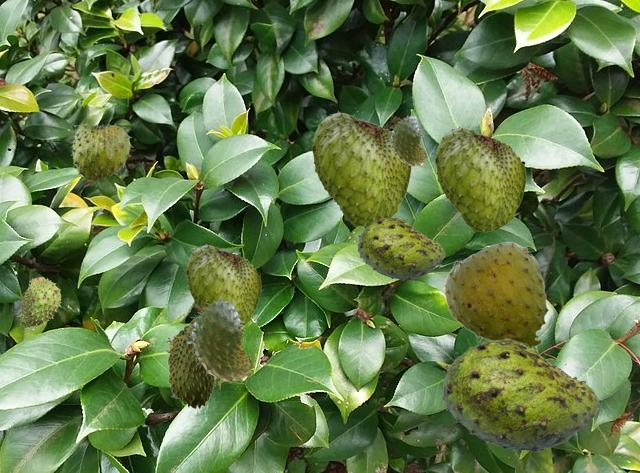guyabano: (441, 338, 599, 451), (312, 110, 410, 226), (442, 241, 548, 348), (435, 125, 525, 231), (187, 296, 253, 388), (186, 243, 260, 325), (357, 217, 444, 279), (165, 319, 216, 408), (70, 120, 132, 179), (16, 277, 60, 327), (388, 115, 426, 169)
